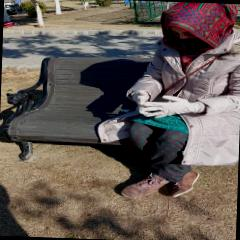gloved: (147, 95, 198, 119), (130, 89, 150, 115)
